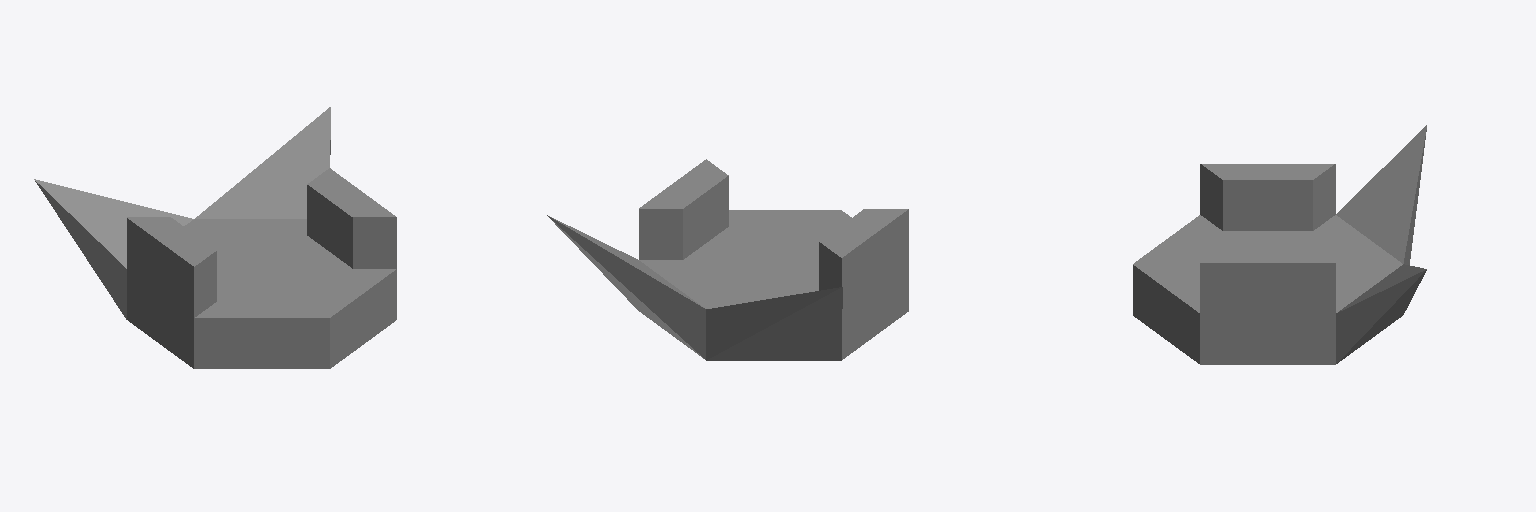
The model's file is turret.obj.
3 renders of one model, left to right at view 1: azimuth 30°, elevation 25°; view 2: azimuth 150°, elevation 25°; view 3: azimuth 270°, elevation 25°, orthographic.
Visible parts, largest first — view 1: Box01_sep8; view 2: Box01_sep8; view 3: Box01_sep8.
Part boxes in pixels (x1,y1,x2,y2): Box01_sep8: (34,107,396,368); Box01_sep8: (547,159,908,360); Box01_sep8: (1133,125,1426,364).
Bounding box in the file's own units: 6.08 × 2.32 × 5.23.